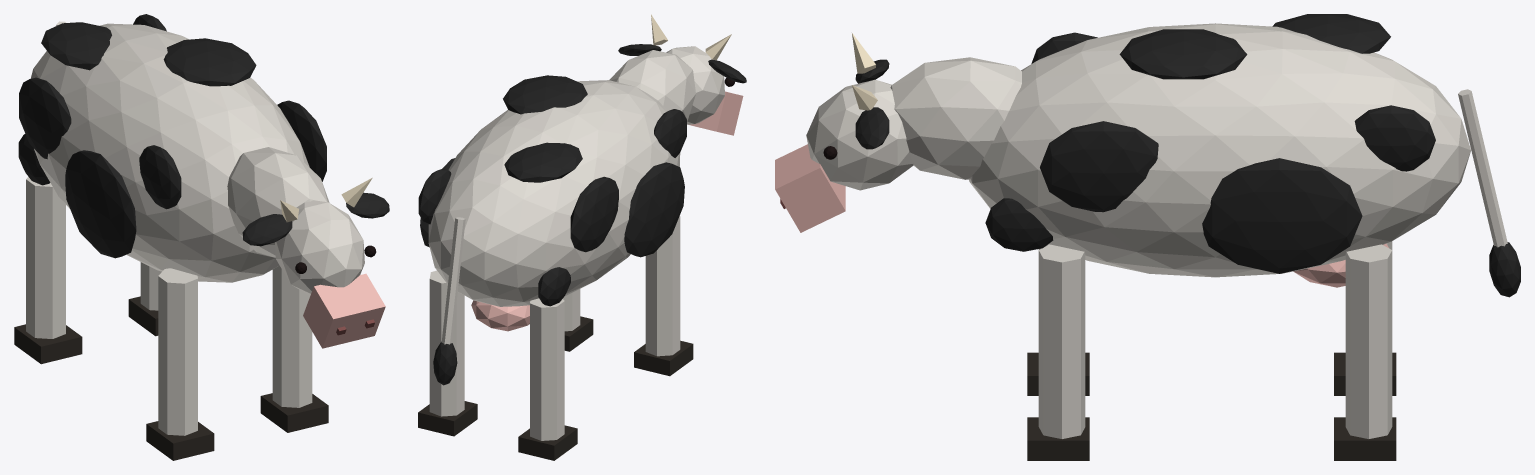
The model's file is cow.glb.
The picture shows the model from 3 angles, left to right: view 1: azimuth 30°, elevation 25°; view 2: azimuth 150°, elevation 25°; view 3: azimuth 270°, elevation 25°; orthographic projection. The views are drawn at different scales.
Parts seen in each view (by area): view 1: body, leg_FR_shaft, leg_BR_shaft, skull, neck, patch_5, leg_FL_shaft, muzzle, patch_8, patch_4, patch_9, patch_6 (+9 smaller); view 2: body, leg_BR_shaft, patch_5, leg_FR_shaft, leg_BL_shaft, neck, patch_4, patch_8, patch_9, skull, tail_rope, udder (+12 smaller); view 3: body, patch_1, neck, leg_FL_shaft, leg_BL_shaft, patch, skull, patch_8, muzzle, patch_2, patch_9, patch_3 (+9 smaller).
Boxes of the visible parts, left/top/right/bottom form: body: left=30, top=23, right=309, bottom=282; leg_FR_shaft: left=158, top=268, right=197, bottom=435; leg_BR_shaft: left=26, top=177, right=65, bottom=338; skull: left=275, top=200, right=364, bottom=295; neck: left=227, top=147, right=329, bottom=257; patch_5: left=65, top=150, right=136, bottom=258; leg_FL_shaft: left=272, top=265, right=312, bottom=407; muzzle: left=303, top=273, right=385, bottom=348; patch_8: left=163, top=38, right=256, bottom=86; patch_4: left=19, top=77, right=71, bottom=159; patch_9: left=41, top=22, right=111, bottom=70; patch_6: left=139, top=145, right=181, bottom=209; body: left=428, top=80, right=680, bottom=306; leg_BR_shaft: left=530, top=298, right=564, bottom=440; patch_5: left=624, top=162, right=684, bottom=257; leg_FR_shaft: left=645, top=216, right=680, bottom=356; leg_BL_shaft: left=429, top=270, right=464, bottom=416; neck: left=609, top=50, right=695, bottom=120; patch_4: left=570, top=176, right=618, bottom=252; patch_8: left=503, top=75, right=587, bottom=114; patch_9: left=504, top=142, right=582, bottom=182; skull: left=666, top=46, right=724, bottom=124; tail_rope: left=441, top=217, right=465, bottom=344; udder: left=471, top=300, right=529, bottom=331; body: left=969, top=23, right=1470, bottom=277; patch_1: left=1202, top=158, right=1362, bottom=273; neck: left=890, top=57, right=1021, bottom=179; leg_FL_shaft: left=1038, top=244, right=1085, bottom=438; leg_BL_shaft: left=1345, top=244, right=1392, bottom=438; patch: left=1040, top=121, right=1158, bottom=212; skull: left=806, top=79, right=913, bottom=190; patch_8: left=1119, top=29, right=1247, bottom=79; muzzle: left=775, top=144, right=845, bottom=232; patch_2: left=1354, top=105, right=1435, bottom=171; patch_9: left=1272, top=14, right=1390, bottom=53; patch_3: left=985, top=198, right=1053, bottom=251.
Bounding box in the file's own units: 0.8512 × 1.34 × 2.33.
